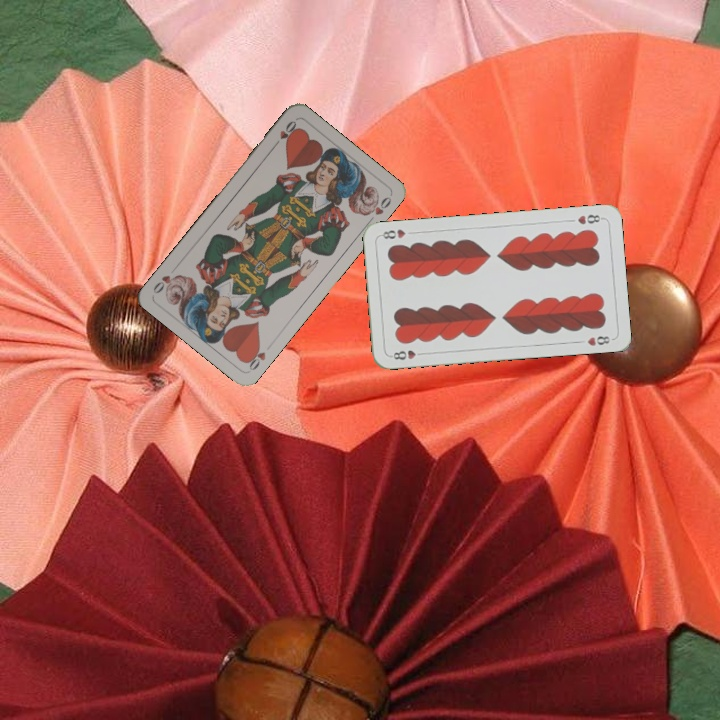H8: (387, 346, 427, 362), (573, 211, 606, 227)
HO: (241, 339, 275, 374), (269, 116, 299, 151)
